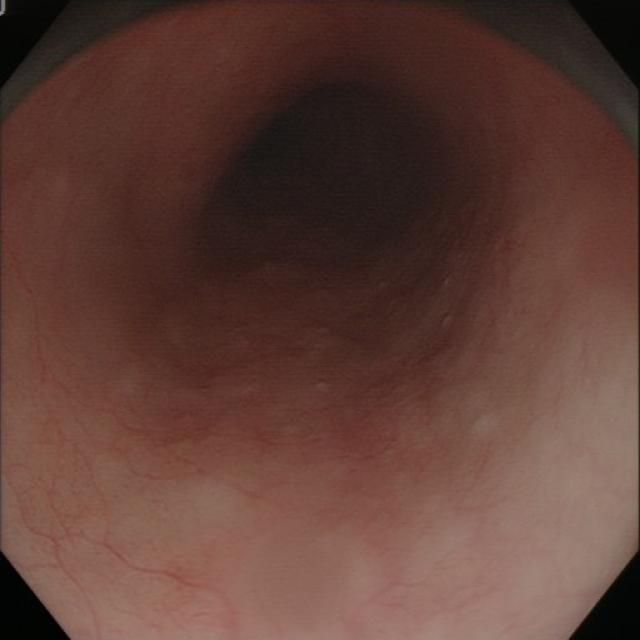E: (204, 81, 435, 266)
